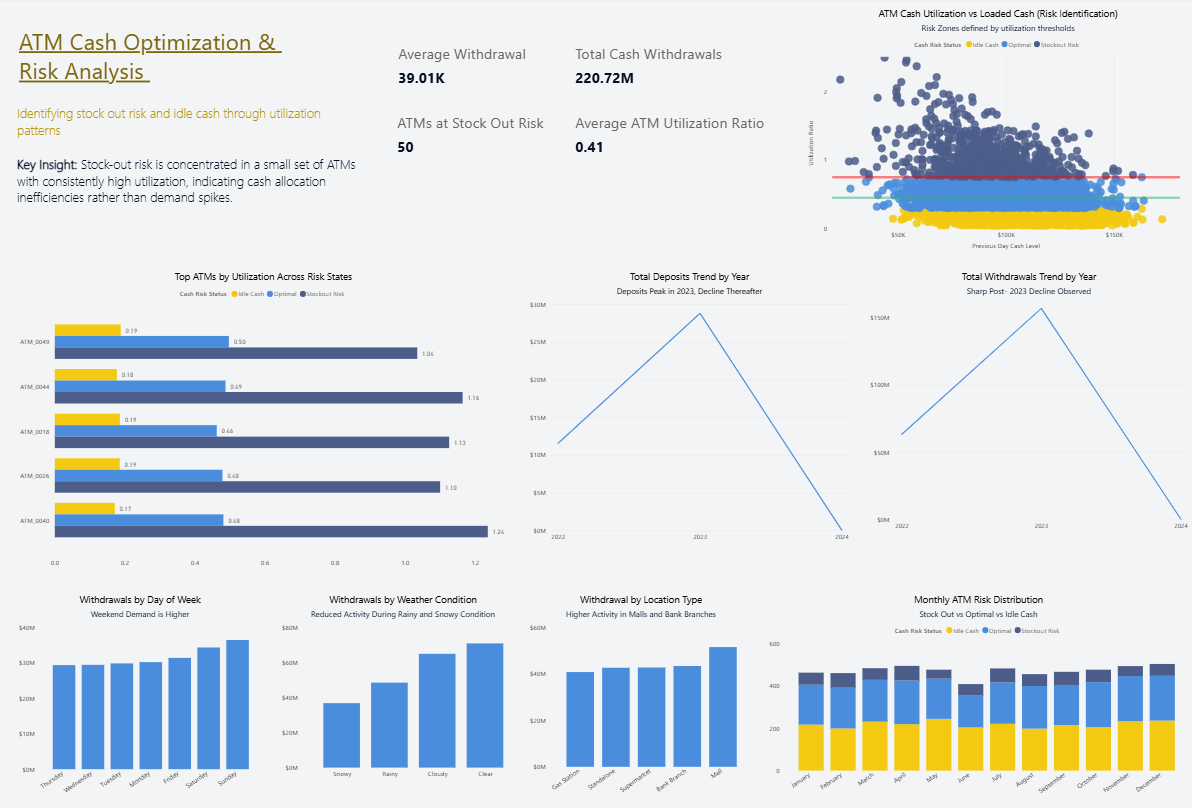

The page's visual inventory and layout, read from the dashboard file:
{"tool":"powerbi","page":{"name":"Page 1","canvas":[2000,1400],"ordinal":0},"visuals":[{"type":"cardVisual","fields":{"Data":["_measure.total_withdrawal"]},"box":[945,51.7,416.7,123.3],"z":0},{"type":"cardVisual","fields":{"Data":["_measure.average_withdrawal"]},"box":[650,51.7,416.7,121.7],"z":1000},{"type":"cardVisual","fields":{"Data":["Avg(atm_optimization atm_fact.utilization_ratio)"]},"box":[945,166.7,400,121.7],"z":2000},{"type":"cardVisual","fields":{"Data":["_measure.Stock Out ATM"]},"box":[648.3,166.7,418.3,121.7],"z":3000},{"type":"columnChart","title":"Withdrawals by Day of Week","fields":{"Category":["atm_optimization atm_fact.day_of_week"],"Y":["Sum(atm_optimization atm_fact.total_withdrawals)"]},"box":[30,993.3,413.3,346.7],"z":5000},{"type":"scatterChart","title":"ATM Cash Utilization vs Loaded Cash (Risk Identification)","fields":{"X":["atm_optimization atm_fact.previous_day_cash_level"],"Y":["atm_optimization atm_fact.utilization_ratio"],"Series":["atm_optimization atm_fact.cash_risk_status"]},"box":[1345,16.7,643.3,410],"z":7000},{"type":"clusteredBarChart","title":"Top ATMs by Utilization Across Risk States","fields":{"Category":["atm_optimization atm_fact.atm_id"],"Y":["Avg(atm_optimization atm_fact.utilization_ratio)"],"Series":["atm_optimization atm_fact.cash_risk_status"]},"box":[26.7,455,831.7,505],"z":8000},{"type":"columnChart","title":"Withdrawal by Location Type","fields":{"Category":["atm_optimization atm_fact.location_type"],"Y":["Sum(atm_optimization atm_fact.total_withdrawals)"]},"box":[881.7,993.3,380,346.7],"z":9000},{"type":"lineChart","title":"Total Withdrawals Trend by Year","fields":{"Category":["atm_optimization atm_fact.transaction_date.Variation.Date Hierarchy.Year"],"Y":["Sum(atm_optimization atm_fact.total_withdrawals)"]},"box":[1448.3,455,540,445],"z":10000},{"type":"columnChart","title":"Monthly ATM Risk Distribution","fields":{"Category":["atm_optimization atm_fact.transaction_date.Variation.Date Hierarchy.Month"],"Series":["atm_optimization atm_fact.cash_risk_status"],"Y":["CountNonNull(atm_optimization atm_fact.atm_id)"]},"box":[1280,993.3,708.3,346.7],"z":11000},{"type":"lineChart","title":"Total Deposits Trend by Year","fields":{"Category":["atm_optimization atm_fact.transaction_date.Variation.Date Hierarchy.Year"],"Y":["Sum(atm_optimization atm_fact.total_deposits)"]},"box":[881.7,455,541.7,463.3],"z":11001},{"type":"columnChart","title":"Withdrawals by Weather Condition","fields":{"Y":["Sum(atm_optimization atm_fact.total_withdrawals)"],"Category":["atm_optimization atm_fact.weather_condition"]},"box":[468.3,993.3,413.3,320],"z":11002},{"type":"textbox","box":[30,43.3,573.3,123.3],"z":11003},{"type":"textbox","box":[26.7,173.3,576.7,66.7],"z":11004},{"type":"textbox","box":[26.7,258.3,576.7,128.3],"z":11005}]}

Visuals, with their boxes on the page's 2000x1400 design canvas (x1, y1, x2, y2). These are canvas units, not pixel positions in the 1192x808 screenshot, which may show the page scaled, cropped or inside an application window:
cardVisual - _measure.total_withdrawal: select_region(945, 52, 1362, 175)
cardVisual - _measure.average_withdrawal: select_region(650, 52, 1067, 173)
cardVisual - Avg(atm_optimization atm_fact.utilization_ratio): select_region(945, 167, 1345, 288)
cardVisual - _measure.Stock Out ATM: select_region(648, 167, 1067, 288)
"Withdrawals by Day of Week" columnChart: select_region(30, 993, 443, 1340)
"ATM Cash Utilization vs Loaded Cash (Risk Identification)" scatterChart: select_region(1345, 17, 1988, 427)
"Top ATMs by Utilization Across Risk States" clusteredBarChart: select_region(27, 455, 858, 960)
"Withdrawal by Location Type" columnChart: select_region(882, 993, 1262, 1340)
"Total Withdrawals Trend by Year" lineChart: select_region(1448, 455, 1988, 900)
"Monthly ATM Risk Distribution" columnChart: select_region(1280, 993, 1988, 1340)
"Total Deposits Trend by Year" lineChart: select_region(882, 455, 1423, 918)
"Withdrawals by Weather Condition" columnChart: select_region(468, 993, 882, 1313)
textbox: select_region(30, 43, 603, 167)
textbox: select_region(27, 173, 603, 240)
textbox: select_region(27, 258, 603, 387)
